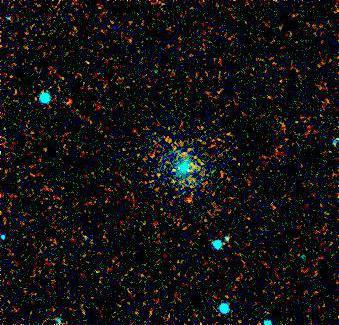star: (52, 92, 82, 122)
